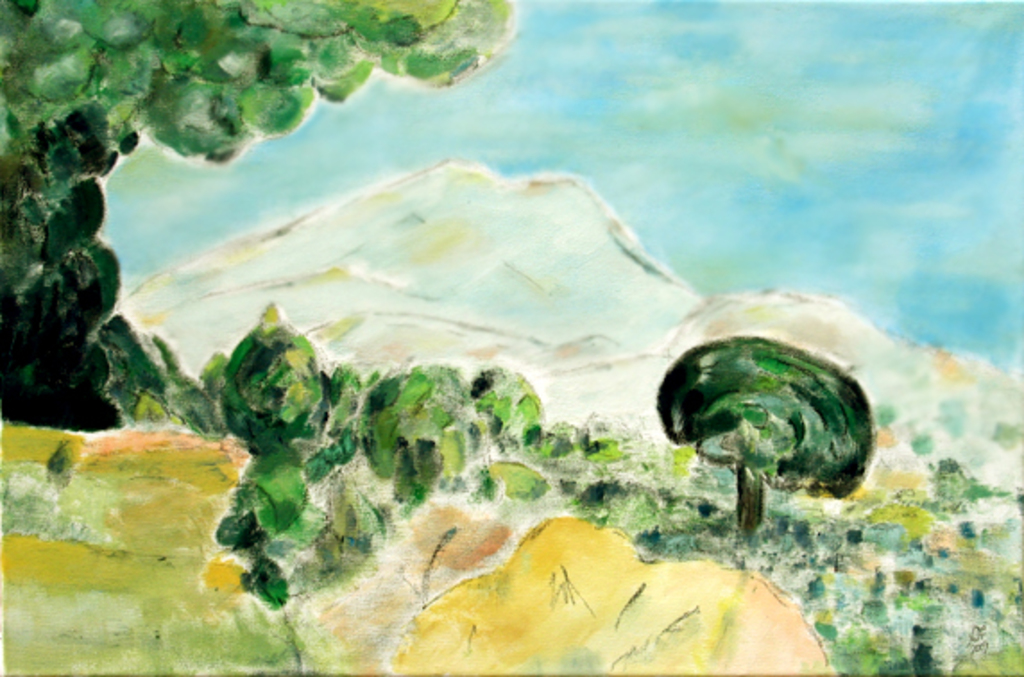Tree: (0, 0, 515, 422), (103, 291, 653, 605), (653, 338, 875, 539)
